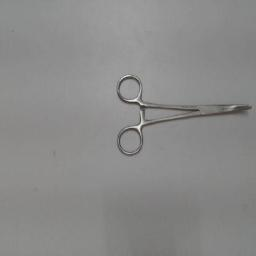Crile Artery Forceps: (114, 68, 254, 160)
